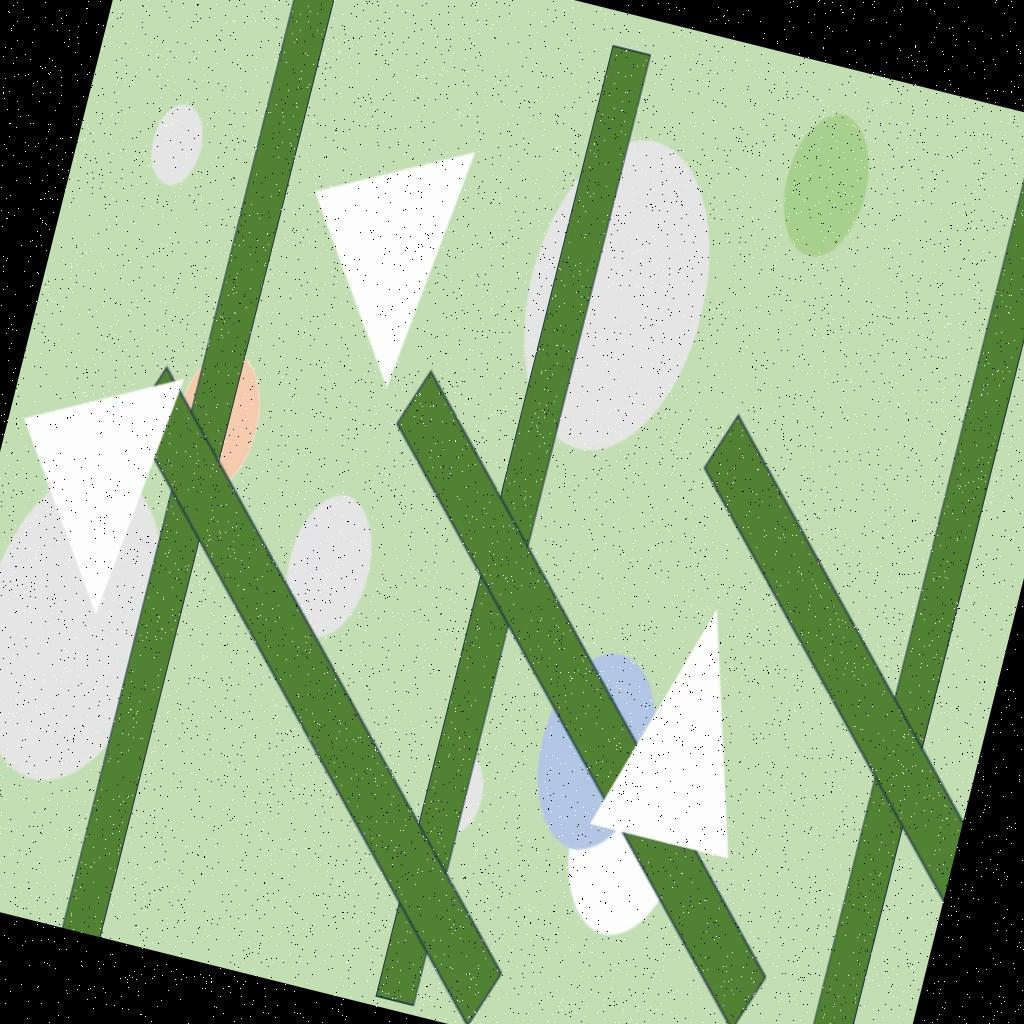Circle: (492, 116, 744, 472), (0, 457, 186, 801), (519, 638, 671, 860), (553, 736, 701, 946), (766, 102, 886, 270), (270, 482, 388, 650), (161, 342, 273, 494), (140, 93, 213, 193), (432, 752, 491, 838)
